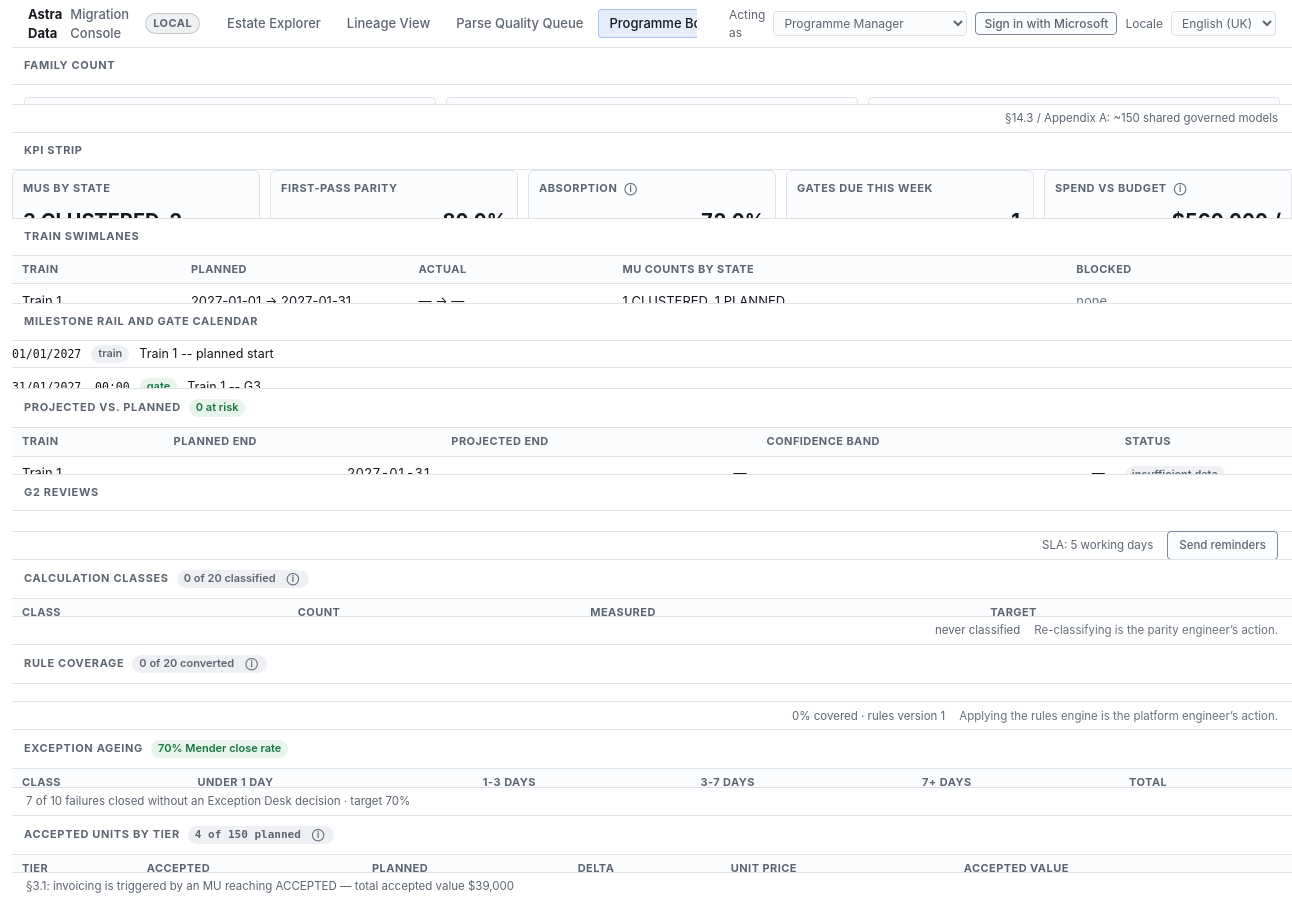
it: Entra configured, signed out › signing out returns to the sign-in button
Expected: the element named "Family count calibration" is shown, 12,48 -> 1291,132
Click the button "Sign in with Microsoft": (1046, 24) 975,12 -> 1117,35
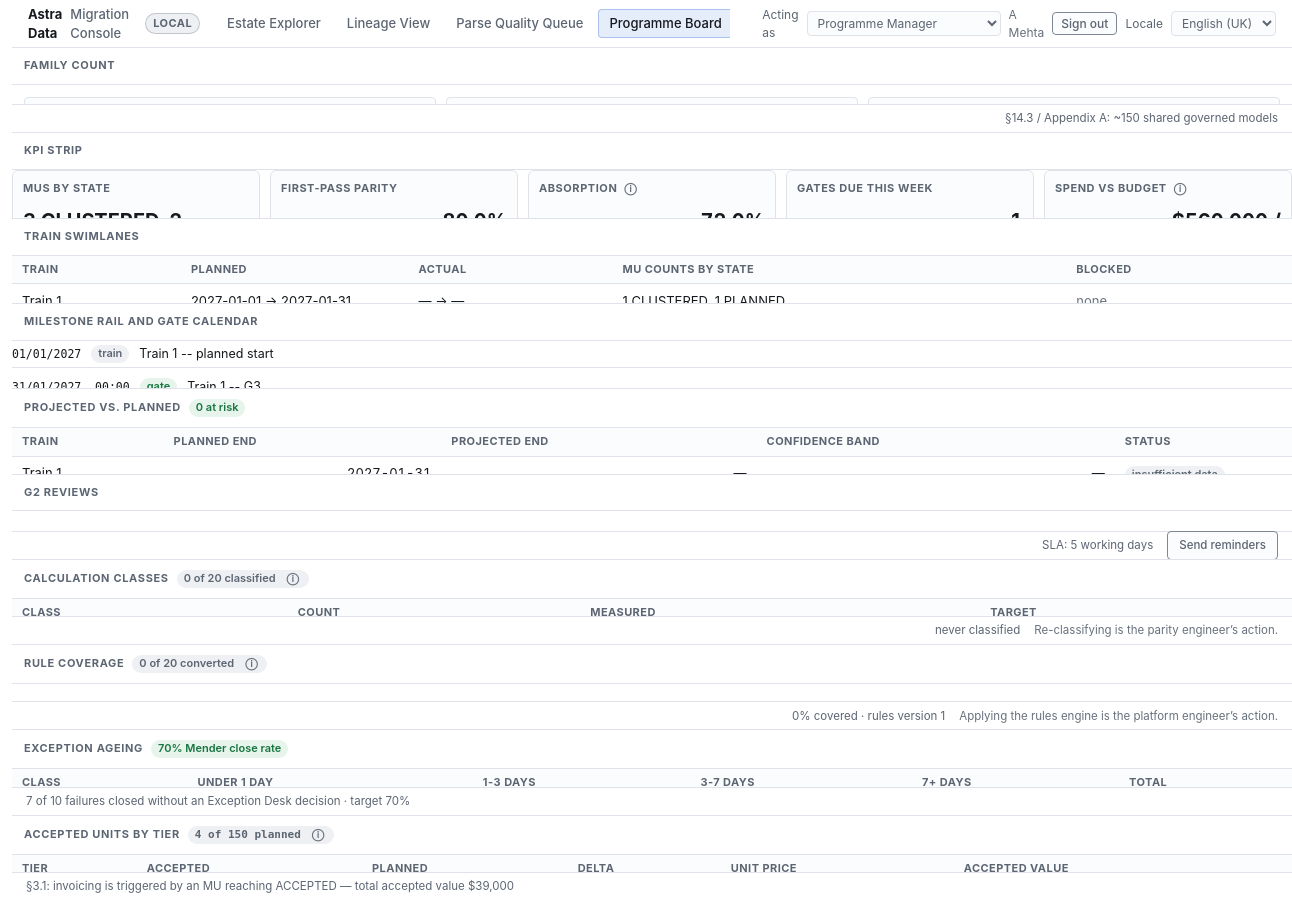
Expected: the button "Sign out" is shown
Click the button "Sign out": (1085, 24) 1052,12 -> 1117,35
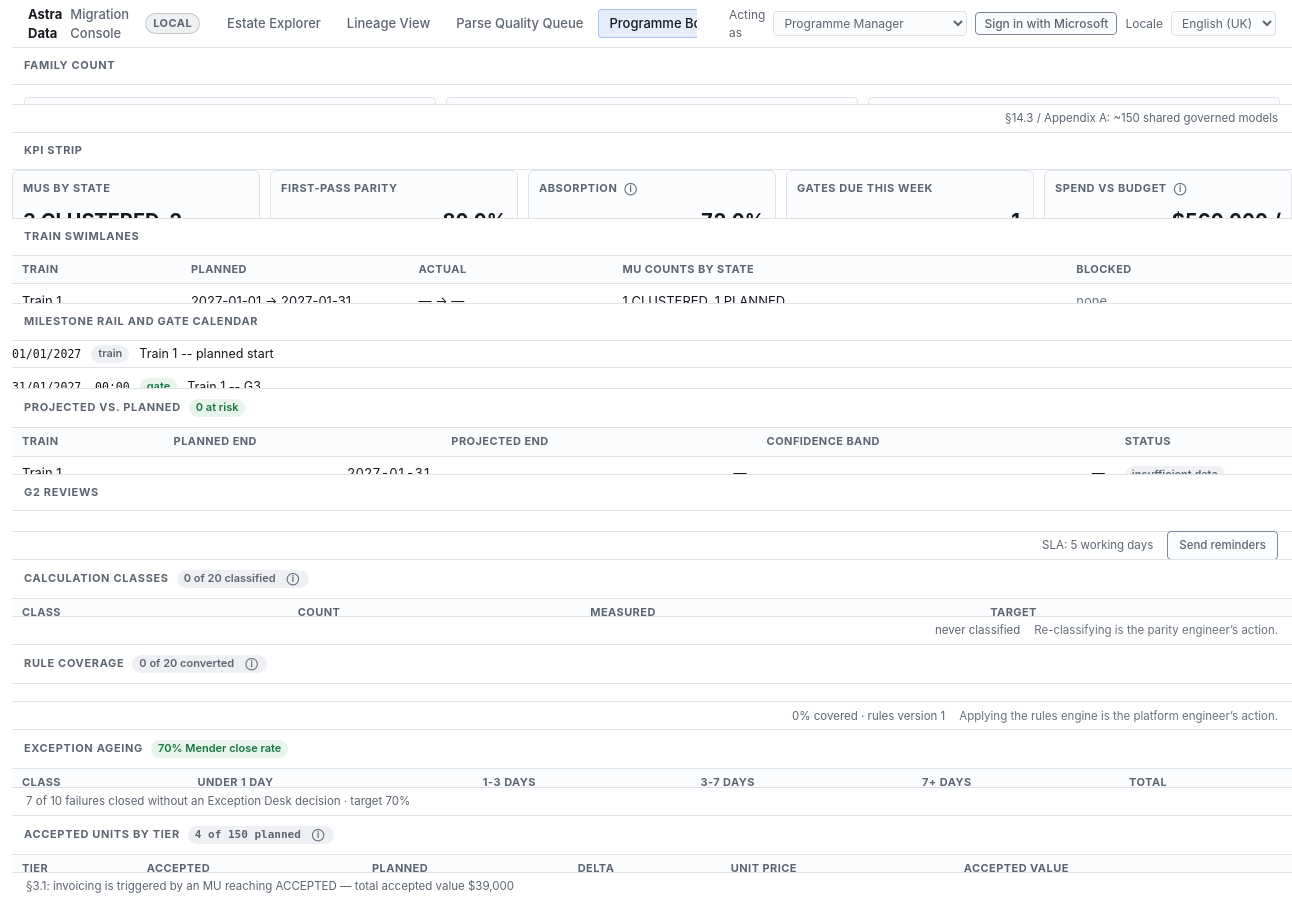
Expected: the button "Sign in with Microsoft" is shown, 975,12 -> 1117,35
